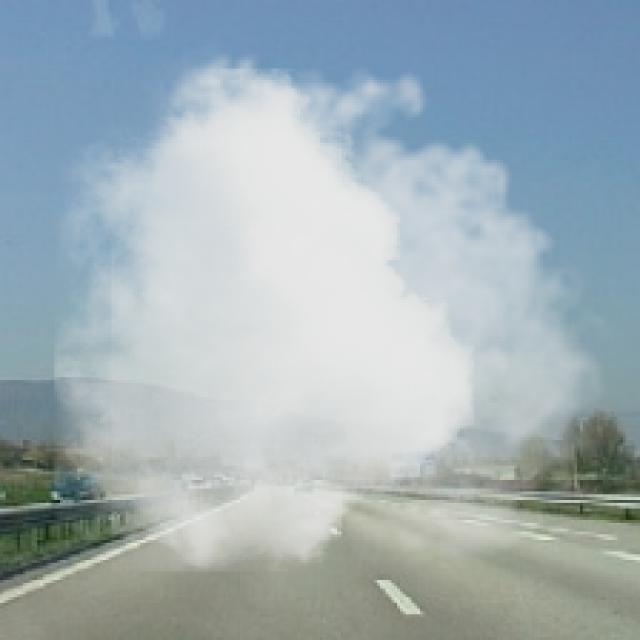smoke: (54, 37, 623, 572)
